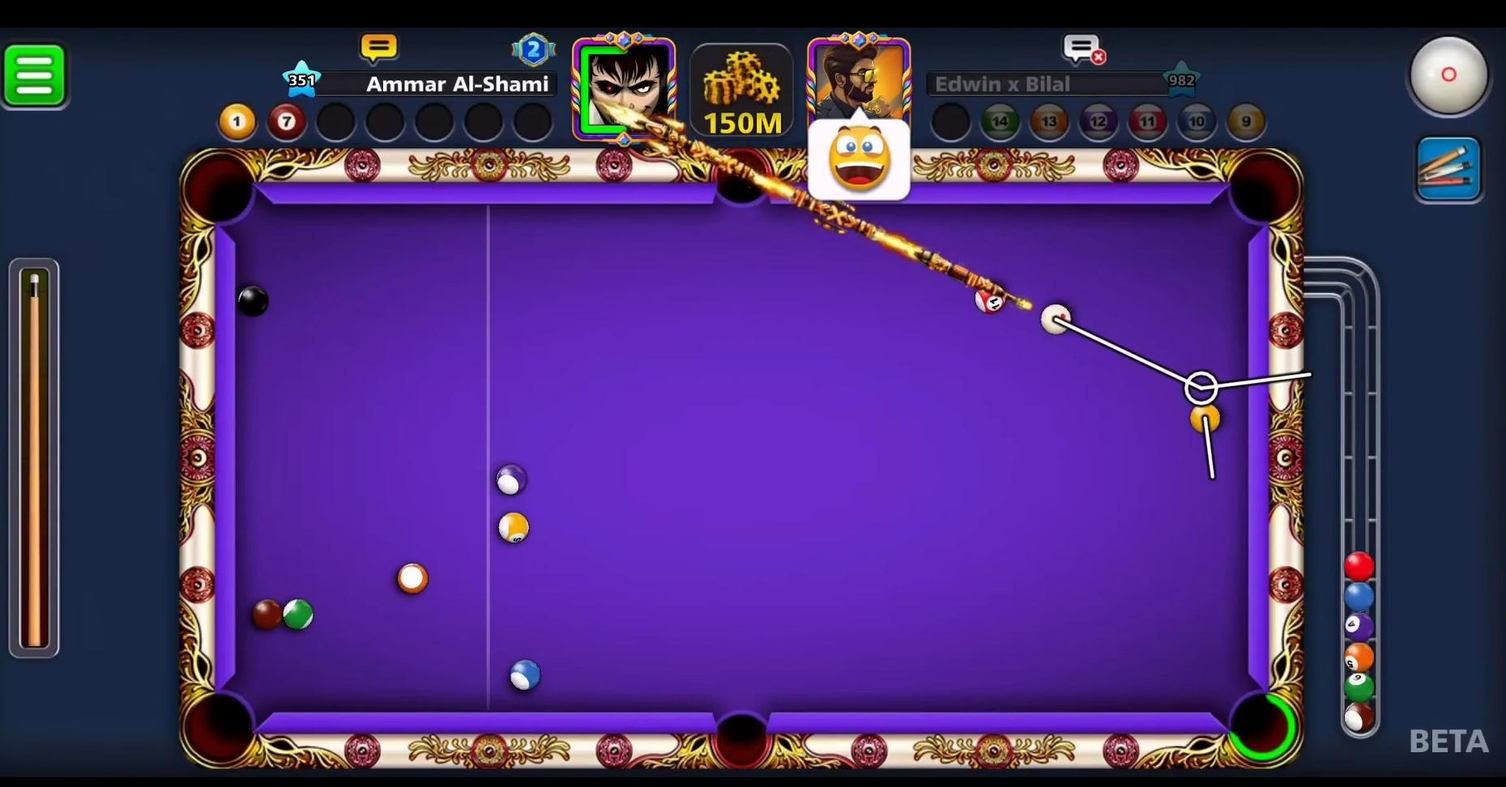Ball: (497, 653, 547, 698), (225, 282, 279, 323), (487, 458, 535, 499), (392, 562, 437, 603), (969, 280, 1012, 321), (273, 597, 318, 633), (493, 509, 535, 547), (1187, 399, 1224, 439), (245, 597, 287, 632)
Force: (0, 257, 65, 659)
Guideline: (1043, 313, 1312, 479)
Hole: (168, 678, 272, 774), (1211, 676, 1305, 776), (175, 140, 267, 234), (696, 688, 790, 775), (1219, 142, 1305, 235), (698, 145, 781, 220)
Play_Area: (232, 202, 1239, 714)
Spin: (1402, 27, 1504, 129)
White: (1034, 299, 1076, 341)
